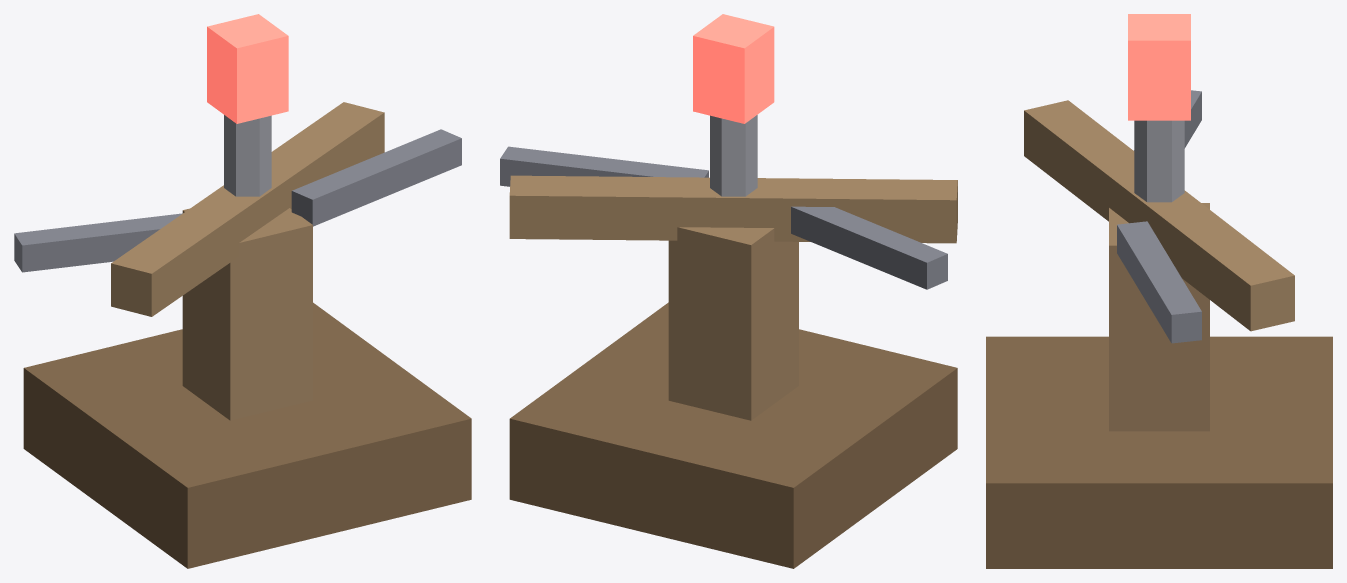
The model's file is ballista.glb.
3 renders of one model, left to right at view 1: azimuth 30°, elevation 25°; view 2: azimuth 150°, elevation 25°; view 3: azimuth 270°, elevation 25°, orthographic. The views are drawn at different scales.
Parts seen in each view (by area): view 1: BallistaBase, BallistaPost, BallistaArm, BallistaBoltHead, BallistaLimbR, BallistaLimbL, BallistaBolt; view 2: BallistaBase, BallistaArm, BallistaPost, BallistaBoltHead, BallistaLimbL, BallistaLimbR, BallistaBolt; view 3: BallistaBase, BallistaArm, BallistaPost, BallistaBoltHead, BallistaLimbR, BallistaBolt, BallistaLimbL.
Boxes of the visible parts, x1,y1,x2,y2 form: BallistaBase: (23,302,471,568); BallistaPost: (182,208,312,420); BallistaArm: (111,102,384,316); BallistaBoltHead: (207,14,288,123); BallistaLimbR: (291,129,461,226); BallistaLimbL: (14,213,182,272); BallistaBolt: (224,115,271,196); BallistaBase: (509,302,957,568); BallistaArm: (509,175,957,243); BallistaPost: (668,227,798,420); BallistaBoltHead: (693,14,774,123); BallistaLimbL: (791,206,947,289); BallistaLimbR: (500,146,708,186); BallistaBolt: (710,115,757,196); BallistaBase: (986,336,1332,568); BallistaArm: (1024,100,1294,331); BallistaPost: (1109,203,1209,431); BallistaBoltHead: (1128,14,1190,120); BallistaLimbR: (1117,221,1201,343); BallistaBolt: (1134,120,1184,202); BallistaLimbL: (1134,90,1201,150).
Bounding box in the file's own units: 1.7 × 1.64 × 1.1.
